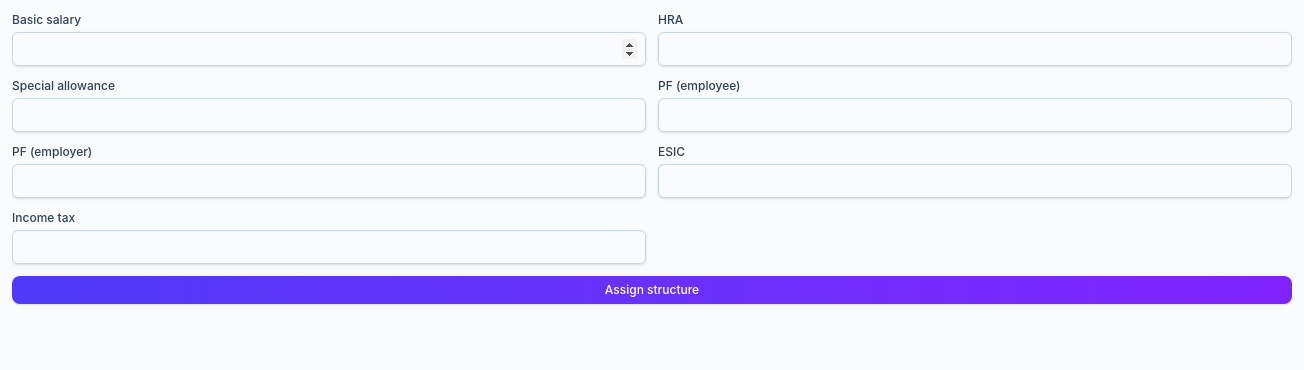
Test: SalaryStructureForm › submits the entered figures and shows a success message
Type "30000" into the number field labelled "Basic salary" at coordinates (329, 49), box left=12, top=32, right=646, bottom=66
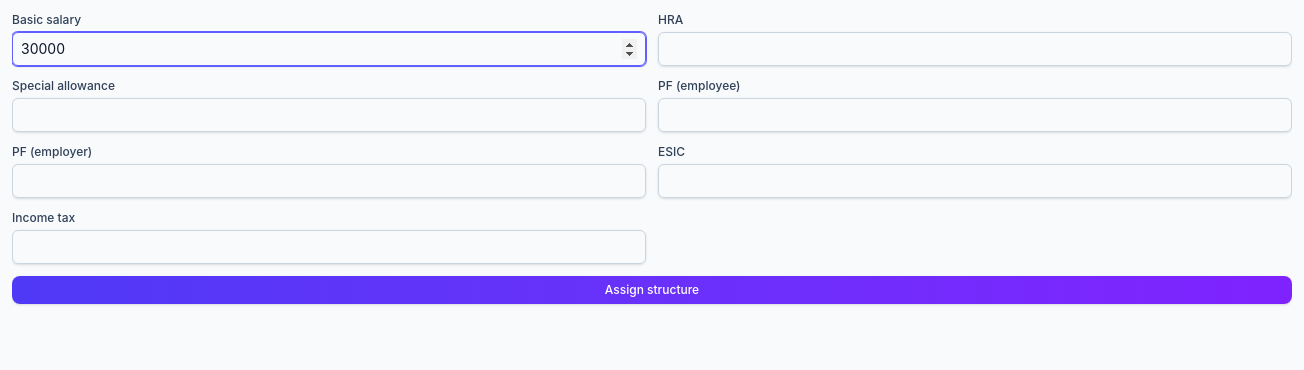
Click the button "Assign structure" at coordinates (652, 290), box left=12, top=276, right=1292, bottom=304
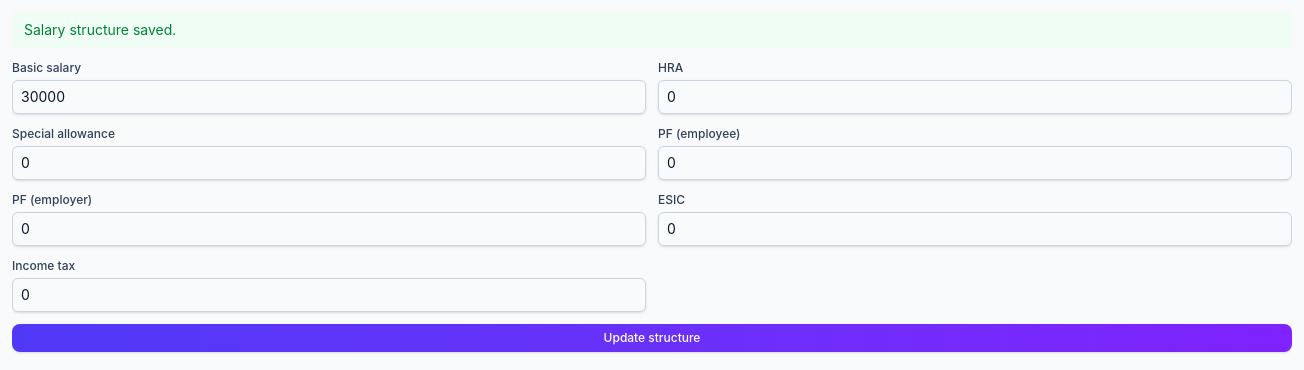
Expected: the text "Salary structure saved." is shown, left=12, top=12, right=1292, bottom=48
